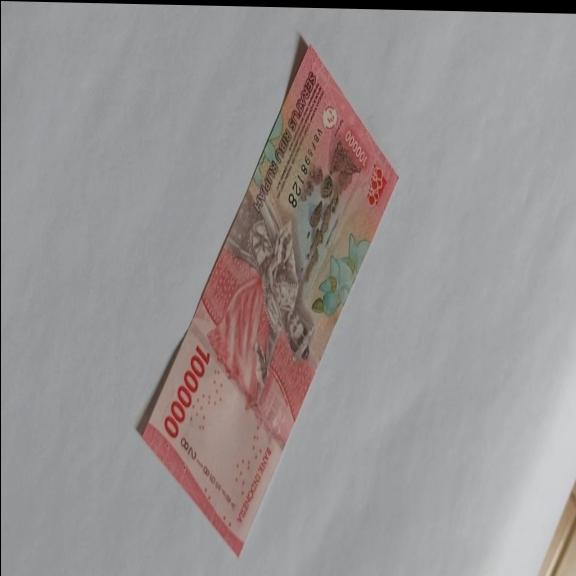Kertas: (163, 342, 210, 440)
